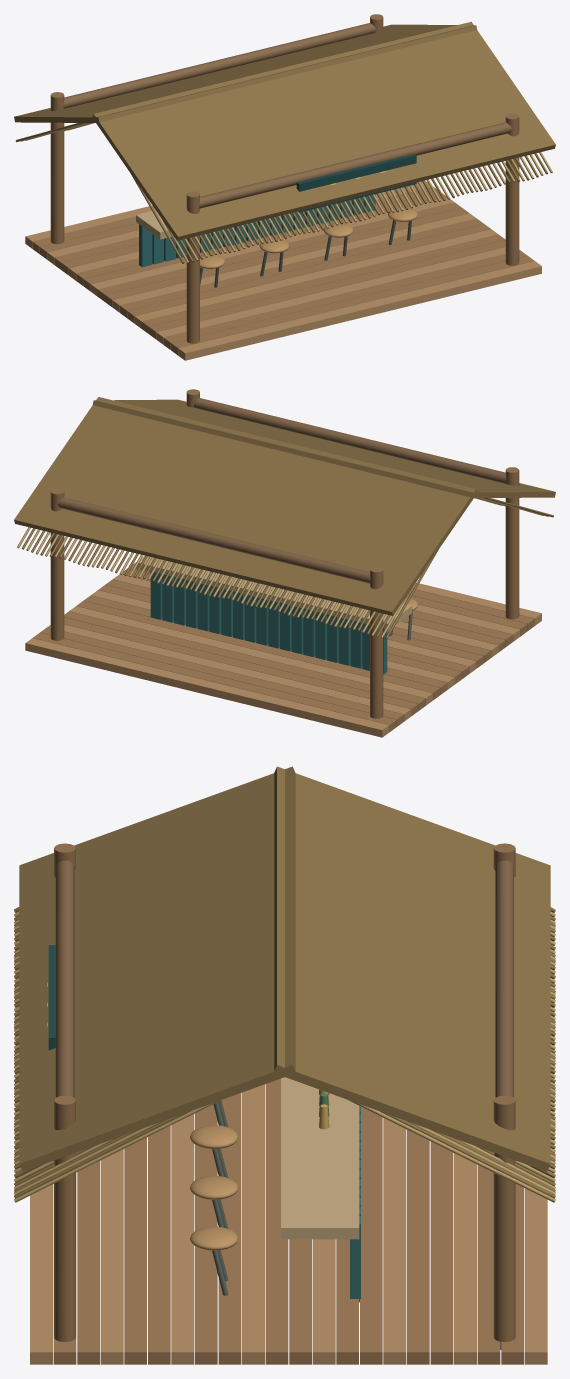
Rendered from beach-bar.glb.
3 views of the same model, one above another, from view 1: azimuth 30°, elevation 25°; view 2: azimuth 150°, elevation 25°; view 3: azimuth 270°, elevation 25° (orthographic). The views are drawn at different scales.
Parts seen in each view (by area): view 1: ThatchedRoofAssembly, TimberDeckAssembly (×2), CrossBeamAssembly, RoofReedAssembly (×2), WoodPostAssembly, PaintedSlatAssembly, BarSign, StoolSeatAssembly, StoolLegAssembly, BarCounter; view 2: ThatchedRoofAssembly, TimberDeckAssembly (×2), PaintedSlatAssembly, CrossBeamAssembly, RoofReedAssembly (×2), WoodPostAssembly, BarCounter; view 3: ThatchedRoofAssembly, TimberDeckAssembly (×2), BarCounter, RoofReedAssembly (×2), WoodPostAssembly, CrossBeamAssembly, StoolSeatAssembly, StoolLegAssembly, PaintedSlatAssembly, BarSign.
Part boxes in pixels (<box>): ThatchedRoofAssembly: <box>14,21,555,240</box>; TimberDeckAssembly (×2): <box>25,180,541,360</box>; CrossBeamAssembly: <box>63,23,512,208</box>; RoofReedAssembly (×2): <box>16,123,552,263</box>; WoodPostAssembly: <box>50,14,519,343</box>; PaintedSlatAssembly: <box>139,194,375,267</box>; BarSign: <box>296,154,416,212</box>; StoolSeatAssembly: <box>200,207,417,268</box>; StoolLegAssembly: <box>200,220,411,287</box>; BarCounter: <box>136,210,171,239</box>; ThatchedRoofAssembly: <box>14,397,555,615</box>; TimberDeckAssembly (×2): <box>25,562,541,737</box>; PaintedSlatAssembly: <box>150,571,387,674</box>; CrossBeamAssembly: <box>57,398,506,583</box>; RoofReedAssembly (×2): <box>17,498,553,638</box>; WoodPostAssembly: <box>50,389,519,718</box>; BarCounter: <box>136,556,412,630</box>; ThatchedRoofAssembly: <box>19,766,550,1171</box>; TimberDeckAssembly (×2): <box>30,1078,547,1364</box>; BarCounter: <box>281,1077,359,1239</box>; RoofReedAssembly (×2): <box>14,907,555,1202</box>; WoodPostAssembly: <box>54,843,515,1349</box>; CrossBeamAssembly: <box>55,860,513,1097</box>; StoolSeatAssembly: <box>190,1125,238,1250</box>; StoolLegAssembly: <box>212,1100,228,1295</box>; PaintedSlatAssembly: <box>350,1106,360,1302</box>; BarSign: <box>48,945,55,1050</box>.
Size of the model in its own units: 9 by 4.33 by 6.9.
